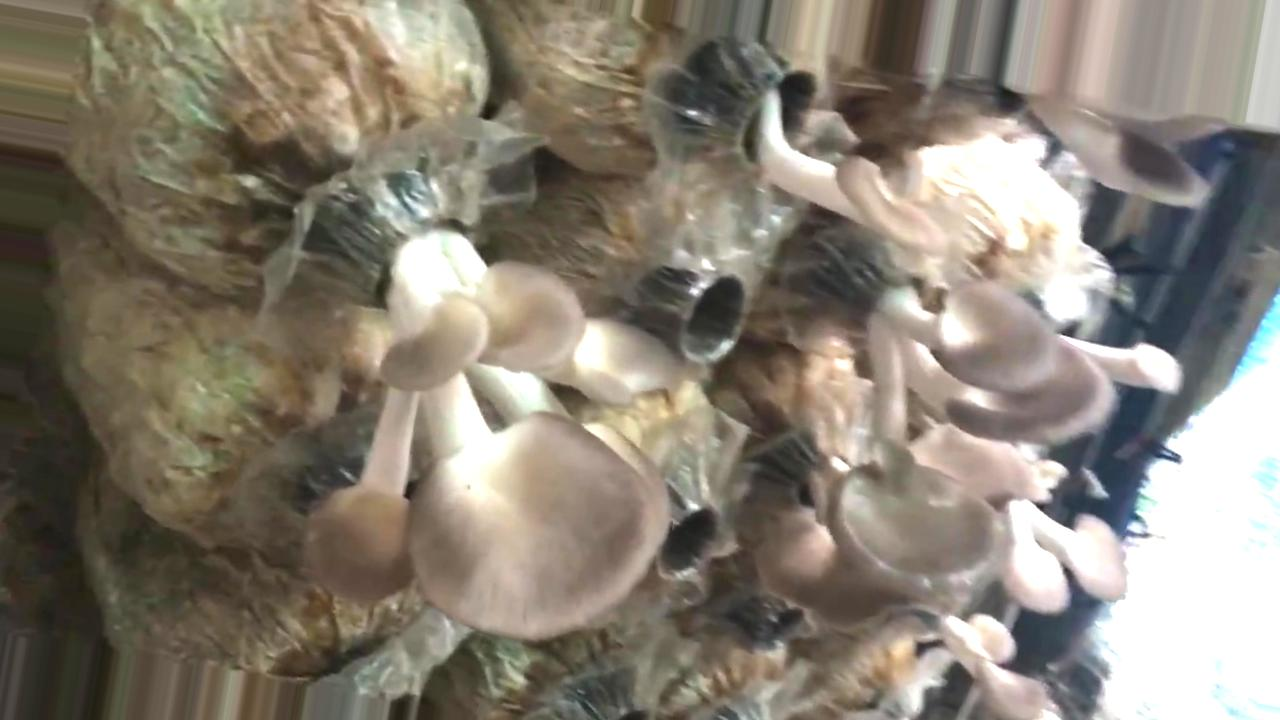nam: (309, 167, 675, 641), (828, 255, 1111, 589), (721, 39, 942, 253), (1002, 471, 1123, 612), (757, 505, 891, 631)
